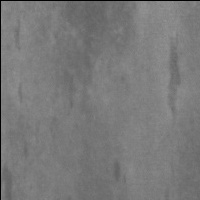inclusion: (56, 3, 130, 92), (160, 31, 184, 122), (11, 11, 30, 51), (108, 153, 131, 186), (1, 163, 19, 200)
